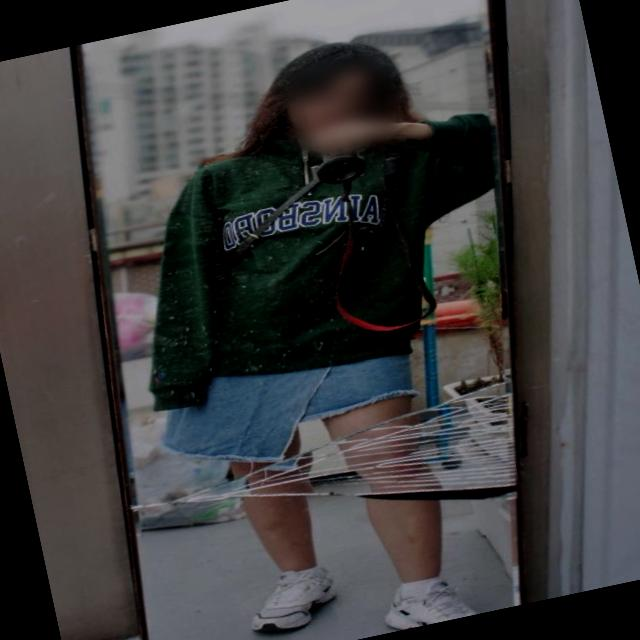hoodies: (100, 86, 548, 422)
skirt: (150, 329, 430, 483)
